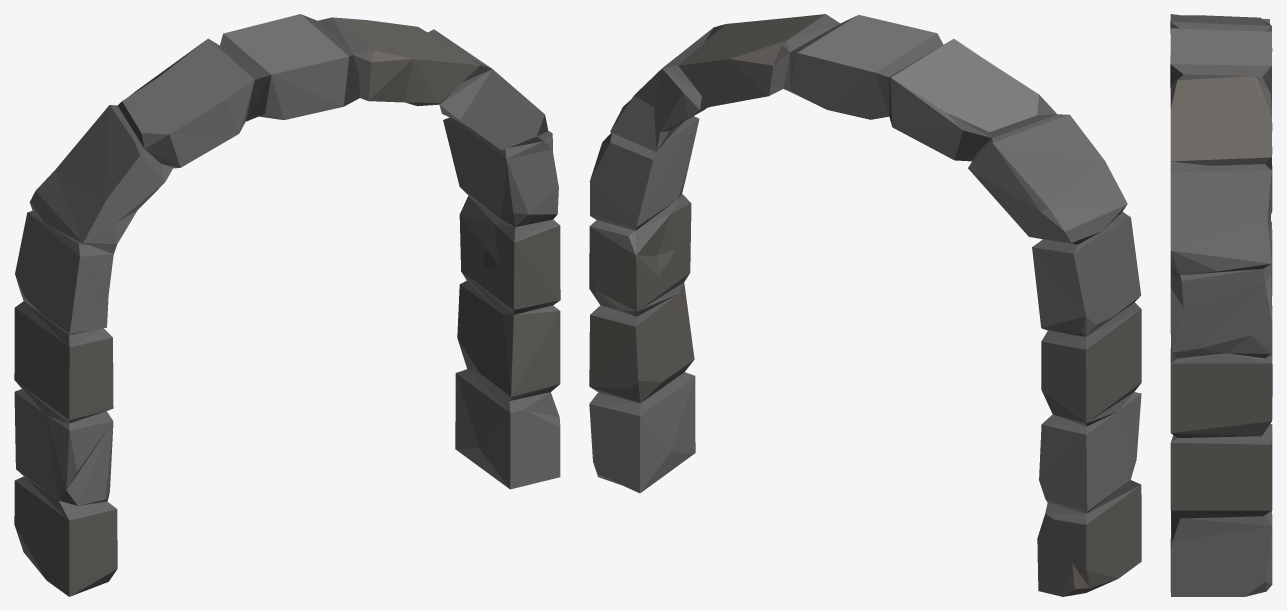
File: SM_Env_Door_Frame_Round_02.FBX
The picture shows the model from 3 angles, left to right: view 1: azimuth 30°, elevation 25°; view 2: azimuth 150°, elevation 25°; view 3: azimuth 270°, elevation 25°; orthographic projection. The views are drawn at different scales.
Visible parts, largest first — view 1: SM_Env_Door_Frame_Round_02; view 2: SM_Env_Door_Frame_Round_02; view 3: SM_Env_Door_Frame_Round_02.
Part boxes in pixels (x1=…): SM_Env_Door_Frame_Round_02: x1=14, y1=14, x2=560, y2=596; SM_Env_Door_Frame_Round_02: x1=589, y1=14, x2=1141, y2=596; SM_Env_Door_Frame_Round_02: x1=1170, y1=14, x2=1272, y2=596.
Size of what is drawn, in the model's own units: 327 by 63.54 by 301.
